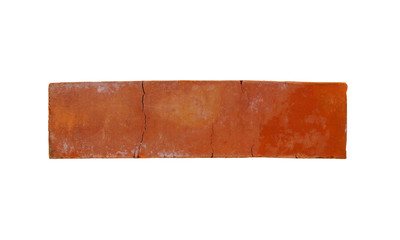brick: (49, 82, 346, 159)
